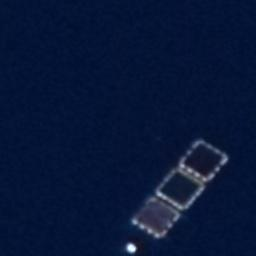square_cover: (126, 194, 181, 242)
square_solid: (177, 133, 230, 186), (154, 165, 205, 212)
